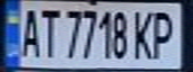1: (96, 7, 115, 58)
7: (78, 7, 100, 60), (60, 6, 81, 58)
8: (112, 8, 133, 60)
A: (15, 4, 42, 58)
K: (130, 7, 157, 61)
P: (148, 7, 184, 61)
T: (33, 4, 60, 58)
